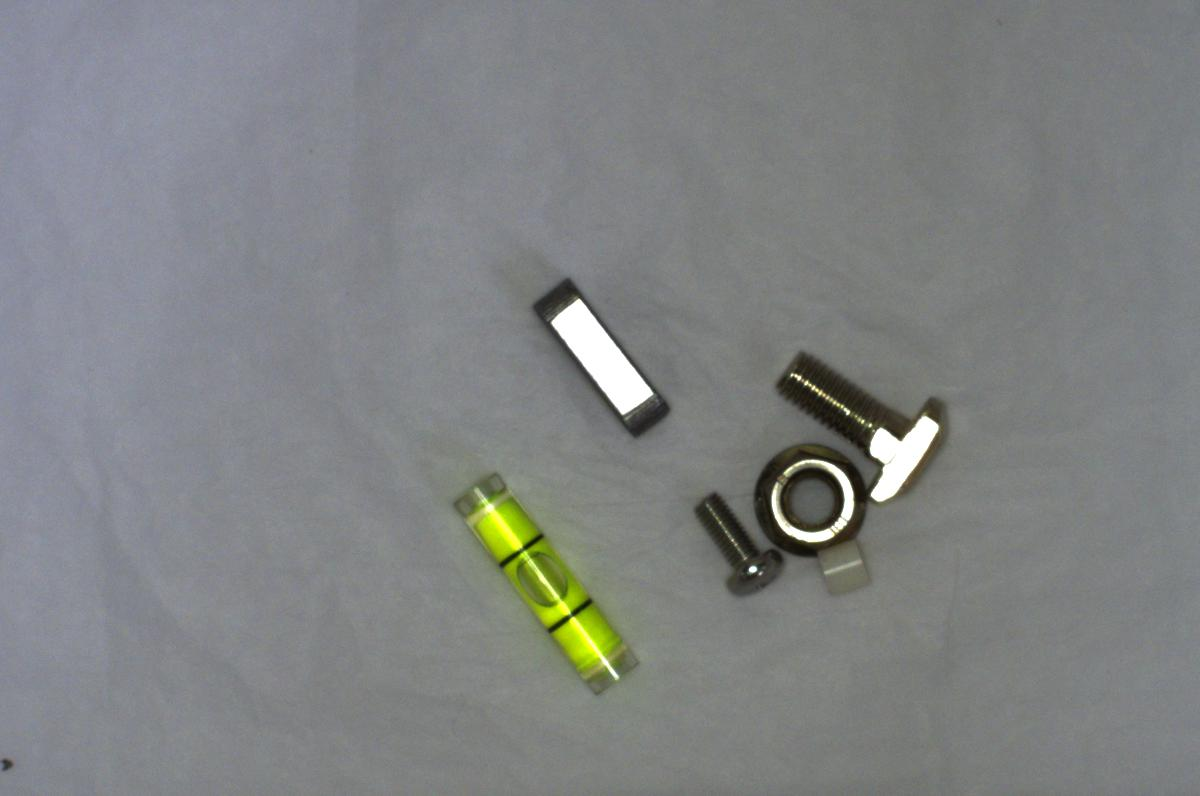Flange nut: (746, 446, 867, 555)
Horizontal bubble: (447, 458, 641, 700)
Keybar: (537, 275, 671, 441)
Plastic cushion pillar: (812, 541, 879, 602)
Round head screw: (684, 485, 790, 600)
T-shaped screw: (764, 346, 958, 508)
